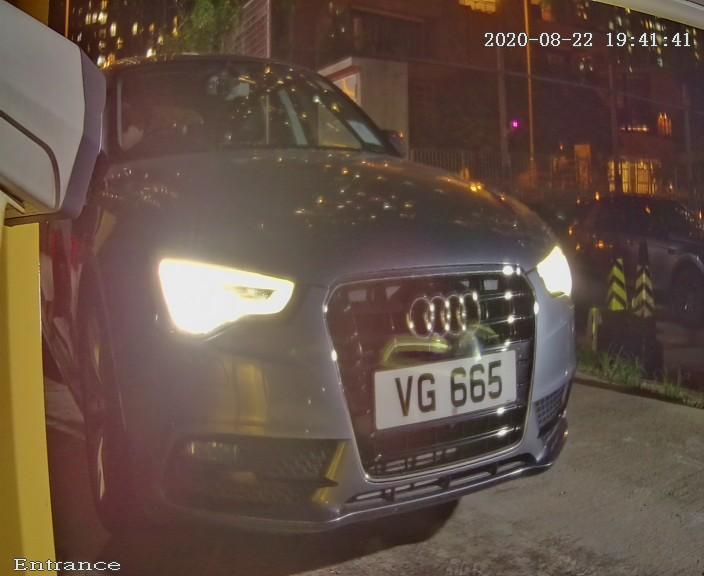Car: (26, 11, 642, 564)
License Plate: (354, 333, 530, 445)
